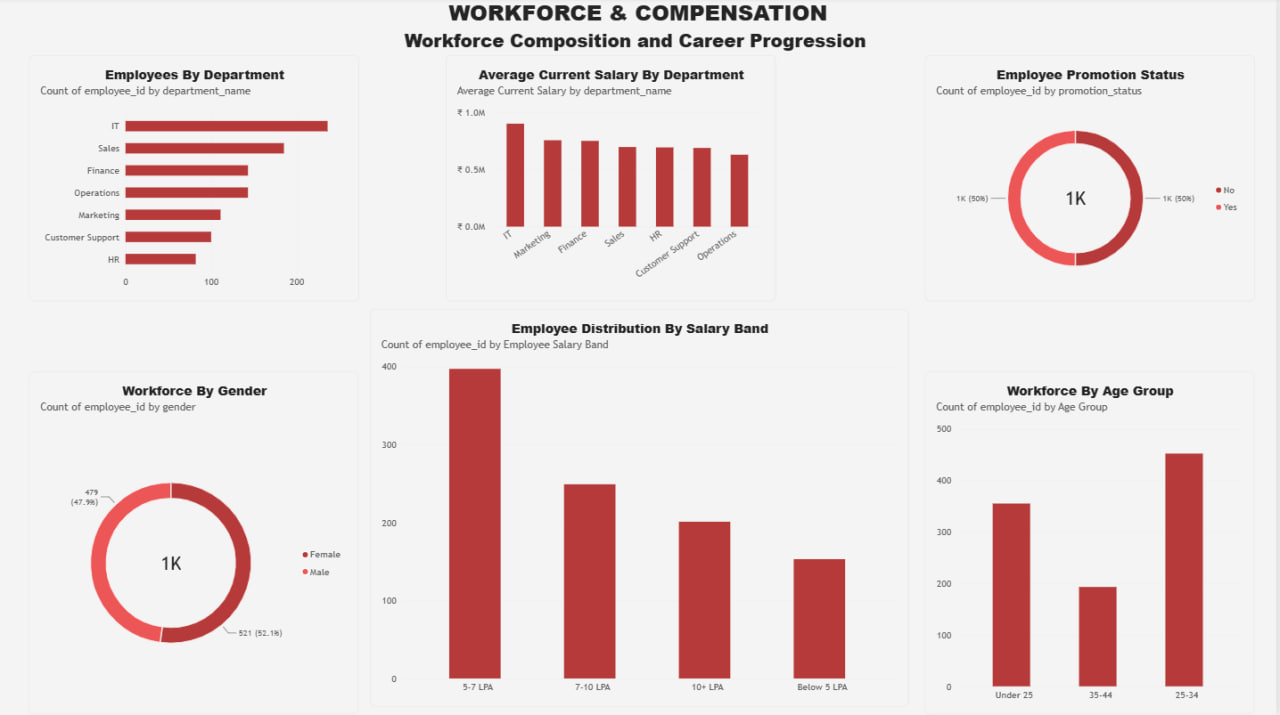

The dashboard page shown, as its layout file describes it:
{"tool":"powerbi","page":{"name":"Workforce & Compensation","canvas":[1920,1080],"ordinal":2},"visuals":[{"type":"clusteredBarChart","title":"Employees By Department","fields":{"Category":["departments.department_name"],"Y":["Count(employees.employee_id)"]},"box":[45.2,87.1,495.8,370.2],"z":0},{"type":"clusteredColumnChart","title":"Average Current Salary By Department","fields":{"Category":["departments.department_name"],"Y":["salary_history.Average Current Salary"]},"box":[671.7,87.1,495.8,370.2],"z":2},{"type":"donutChart","title":"Employee Promotion Status","fields":{"Category":["performance.promotion_status"],"Y":["Count(employees.employee_id)"]},"box":[1391.9,87.1,495.8,370.2],"z":3},{"type":"clusteredColumnChart","title":"Employee Distribution By Salary Band","fields":{"Category":["employees.Employee Salary Band"],"Y":["Count(employees.employee_id)"]},"box":[558.1,469.2,809.3,598.3],"z":4},{"type":"donutChart","title":"Workforce By Gender","fields":{"Category":["employees.gender"],"Y":["CountNonNull(employees.employee_id)"]},"box":[45.3,563.4,495.4,516.3],"z":5},{"type":"clusteredColumnChart","title":"Workforce By Age Group","fields":{"Category":["employees.Age Group"],"Y":["CountNonNull(employees.employee_id)"]},"box":[1391.9,563.4,495.4,516.3],"z":6},{"type":"textbox","box":[0,0,1921.2,87.1],"z":7}]}

Visuals, with their boxes in screenshot pixels (x1, y1, x2, y2), scaled from the page's 1920x1080 canvas onto the 1280x715 screenshot:
"Employees By Department" clusteredBarChart: [30,58,361,303]
"Average Current Salary By Department" clusteredColumnChart: [448,58,778,303]
"Employee Promotion Status" donutChart: [928,58,1258,303]
"Employee Distribution By Salary Band" clusteredColumnChart: [372,311,912,707]
"Workforce By Gender" donutChart: [30,373,360,714]
"Workforce By Age Group" clusteredColumnChart: [928,373,1258,714]
textbox: [0,0,1279,58]
